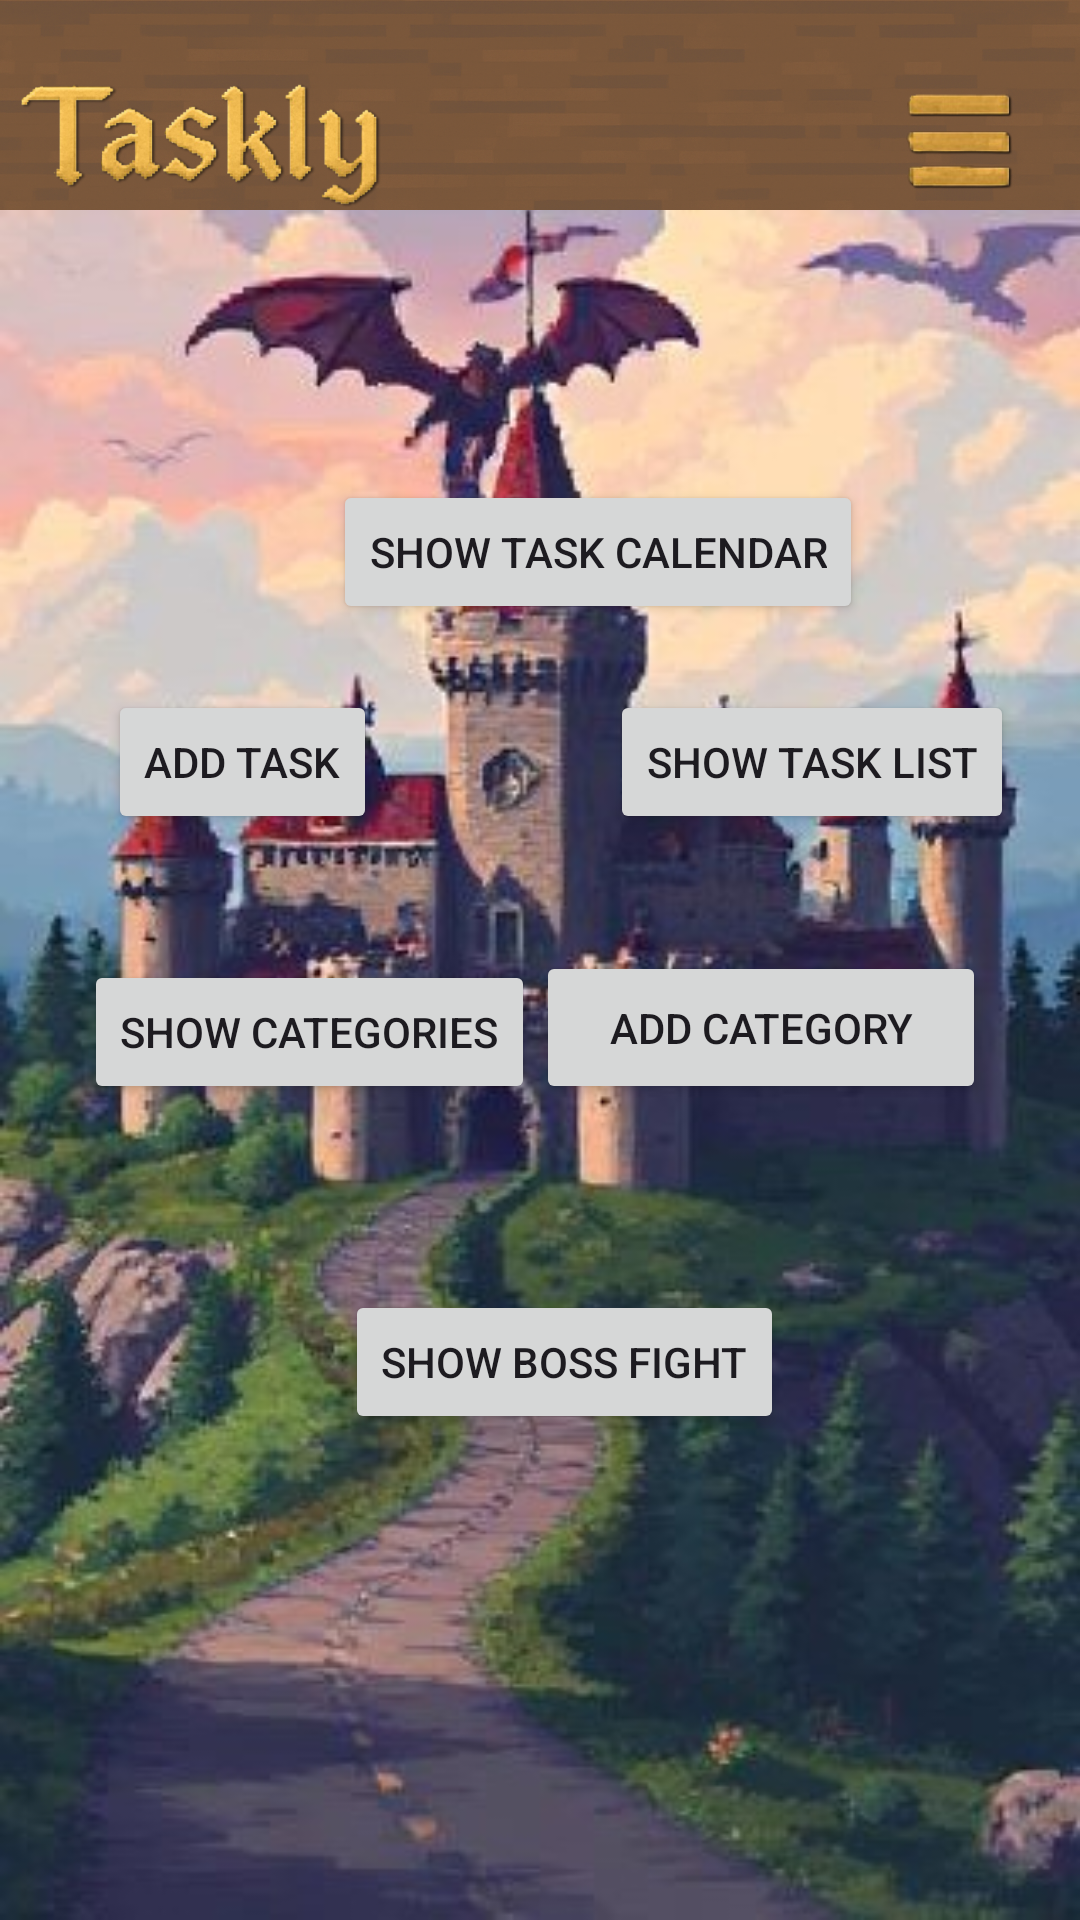

Icon bounding boxes for this 1080w x 1920h phone screenshot, format (x1, y1, x2, y2):
menu: (908, 94, 1012, 188)
